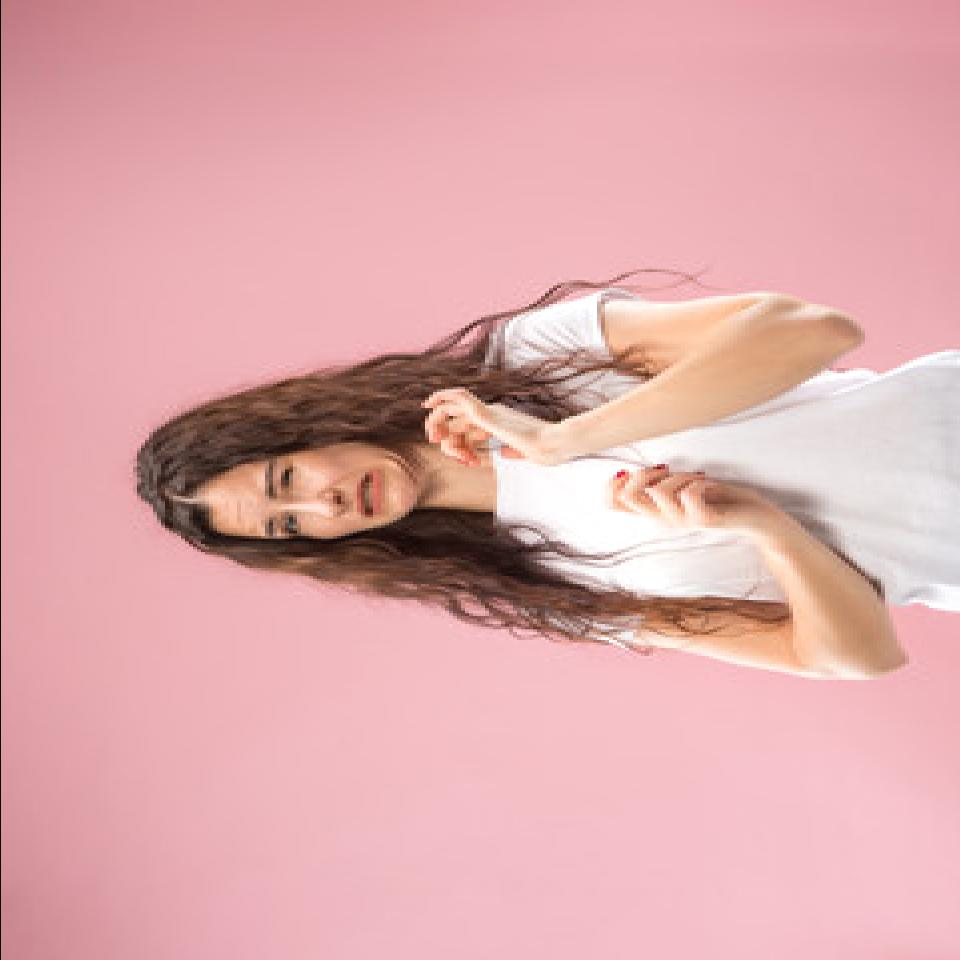Disgust: (200, 429, 422, 542)
